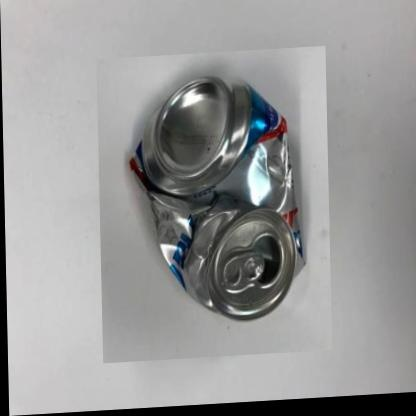trash: (130, 77, 303, 318)
